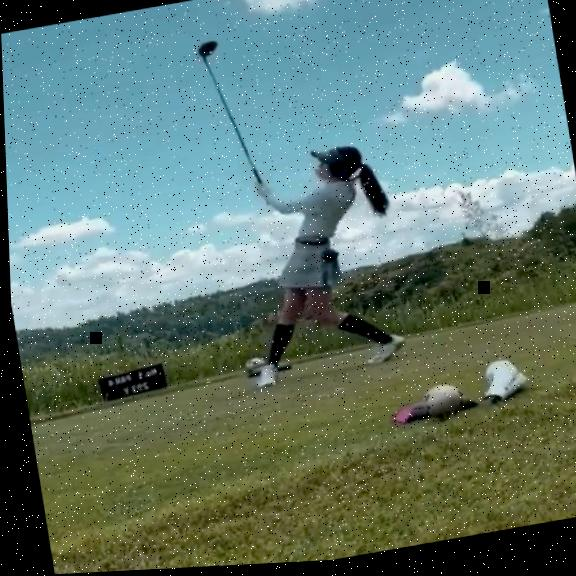ClubHead: (194, 42, 218, 60)
